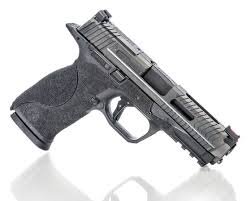gun: (14, 11, 241, 169)
